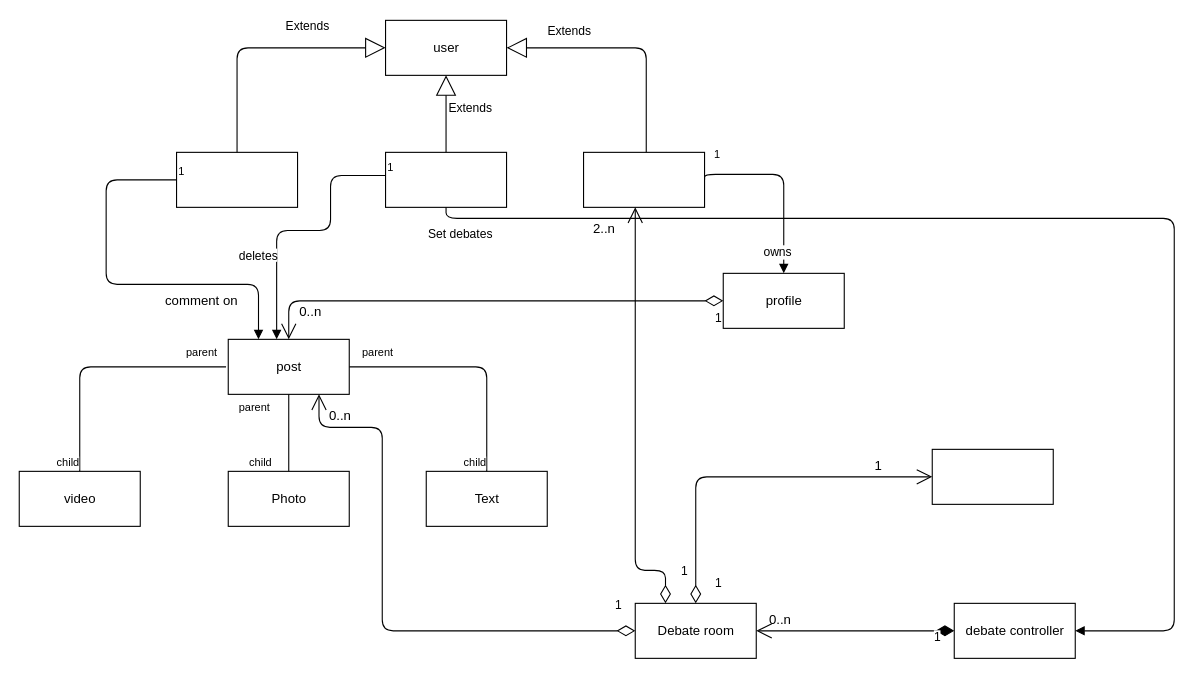
Some shapes in this 1202 by 678 pixel diagram are drawn without their labels. Here are the shapes that lost their labels. From the top down, the centre of each, then its label:
At [236,179]: "voter".
At [445,179]: "Admin".
At [643,179]: "Candidate".
At [992,476]: "moderator".
